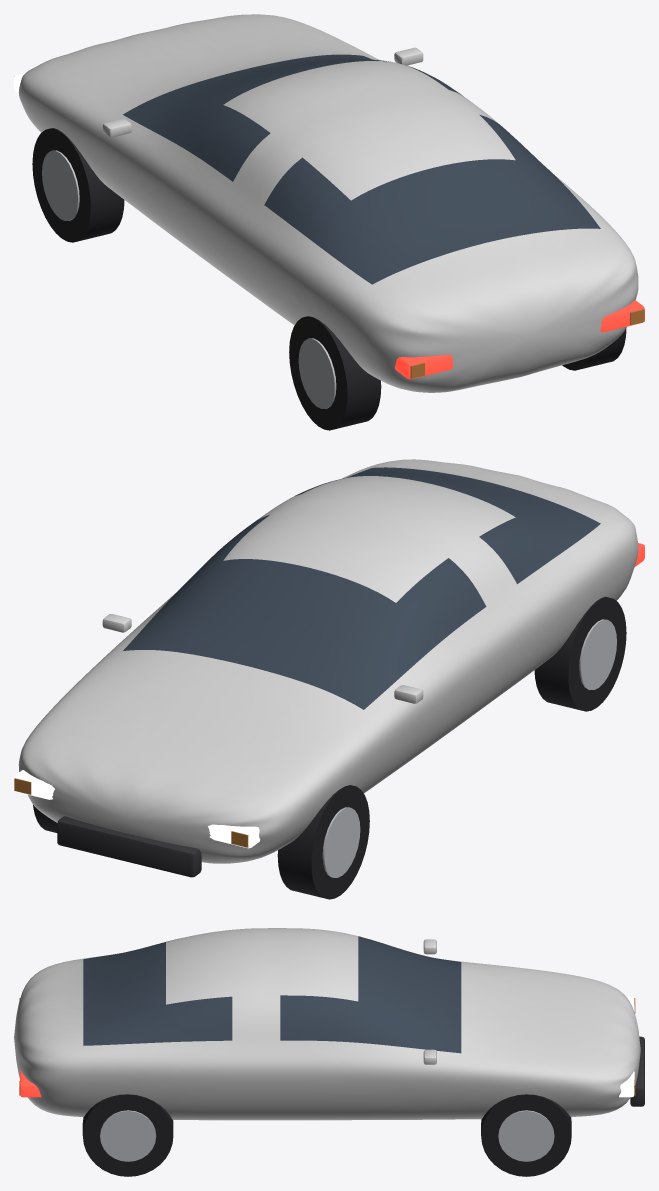
Rendered from auto_freq_car_lod0.glb.
3 views of the same model, one above another, from view 1: azimuth 30°, elevation 25°; view 2: azimuth 150°, elevation 25°; view 3: azimuth 270°, elevation 25° (orthographic). The views are drawn at different scales.
Parts seen in each view (by area): view 1: Karosserie, Rad_HL, Rad_VL, Rad_HR; view 2: Karosserie, Rad_VL, Rad_HL; view 3: Karosserie, Rad_HR, Rad_VR.
Part boxes in pixels (x1,y1,x2,y2): Karosserie: (14, 14, 644, 392); Rad_HL: (289, 316, 381, 430); Rad_VL: (32, 128, 124, 242); Rad_HR: (562, 327, 626, 370); Karosserie: (14, 459, 644, 877); Rad_VL: (277, 785, 369, 899); Rad_HL: (534, 596, 626, 711); Karosserie: (14, 928, 644, 1120); Rad_HR: (82, 1094, 173, 1176); Rad_VR: (481, 1094, 571, 1176).
Bounding box in the file's own units: 1.93 × 1.32 × 4.32.
